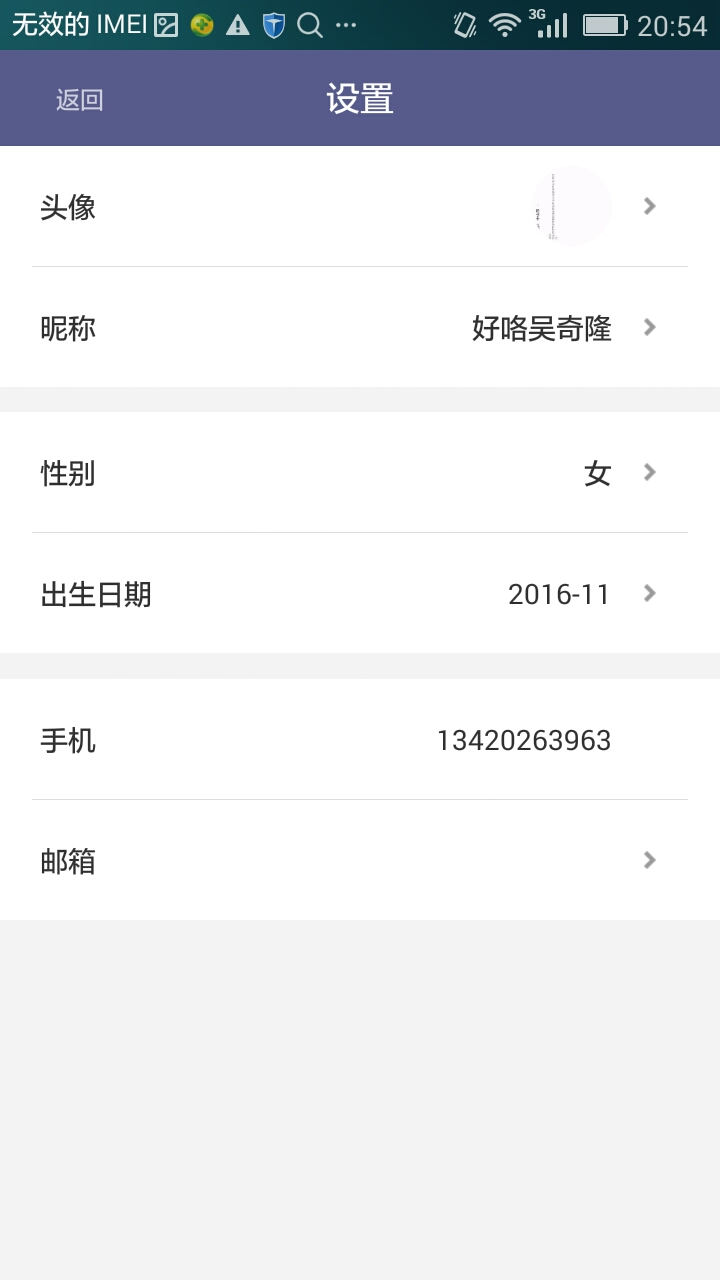textview: (2, 135, 720, 935)
